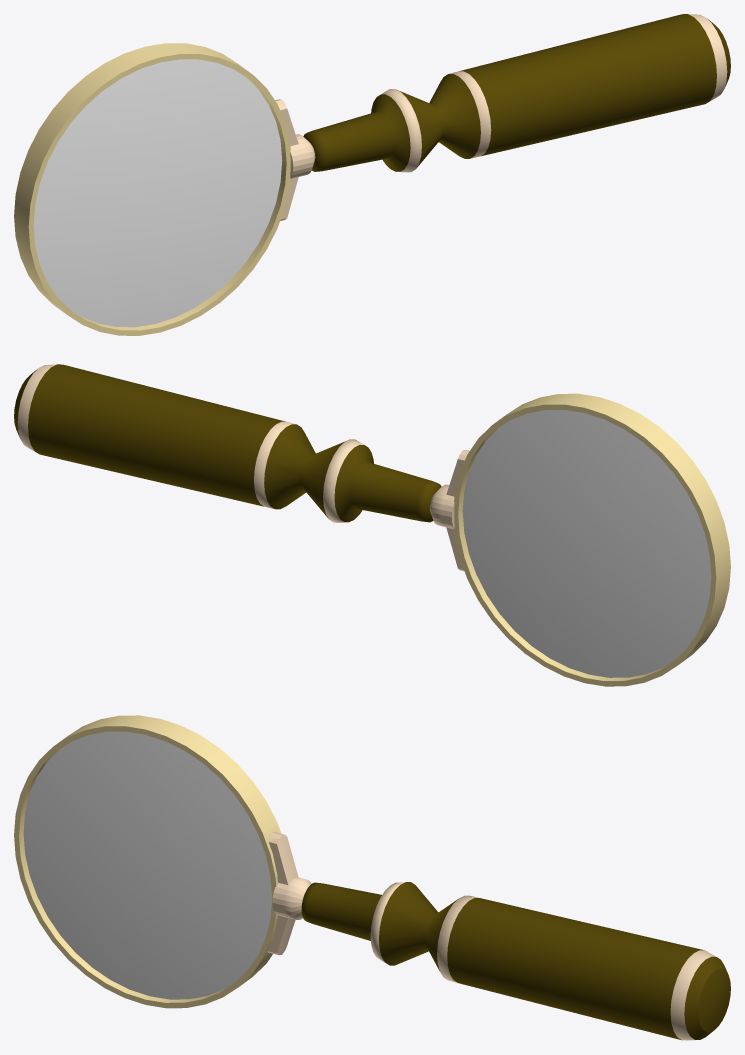
File: mglasscursorv1.fbx
The picture shows the model from 3 angles, top to bottom: view 1: azimuth 30°, elevation 25°; view 2: azimuth 150°, elevation 25°; view 3: azimuth 330°, elevation 25°; orthographic projection.
Visible parts, largest first — view 1: Magnifying_Glass; view 2: Magnifying_Glass; view 3: Magnifying_Glass.
Boxes of the visible parts, x1,y1,x2,y2 form: Magnifying_Glass: (14,14,730,335); Magnifying_Glass: (14,364,730,686); Magnifying_Glass: (14,715,730,1040).
Bounding box in the file's own units: 84.39 × 31.88 × 9.76.
